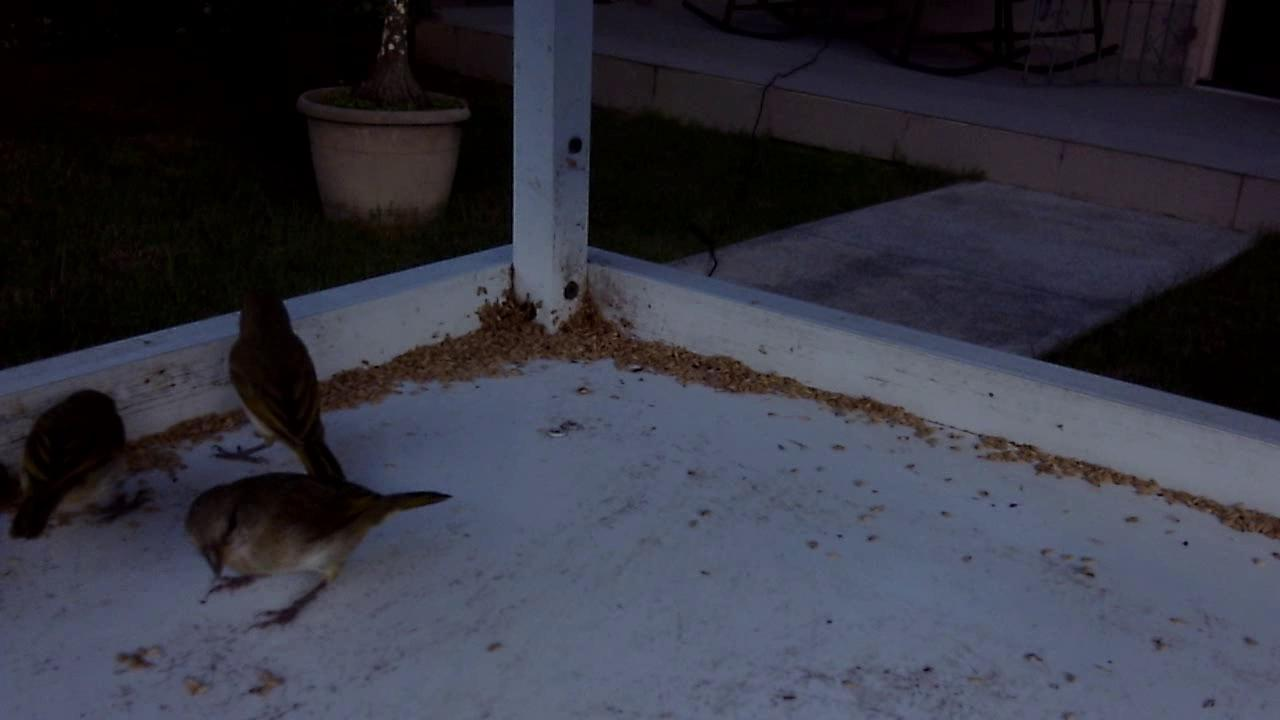canario_do_amazonas: (179, 464, 455, 636), (195, 270, 360, 485), (3, 379, 168, 543)
